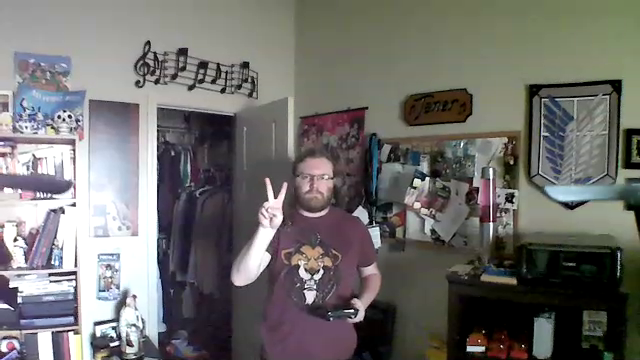peace: (253, 172, 293, 234)
